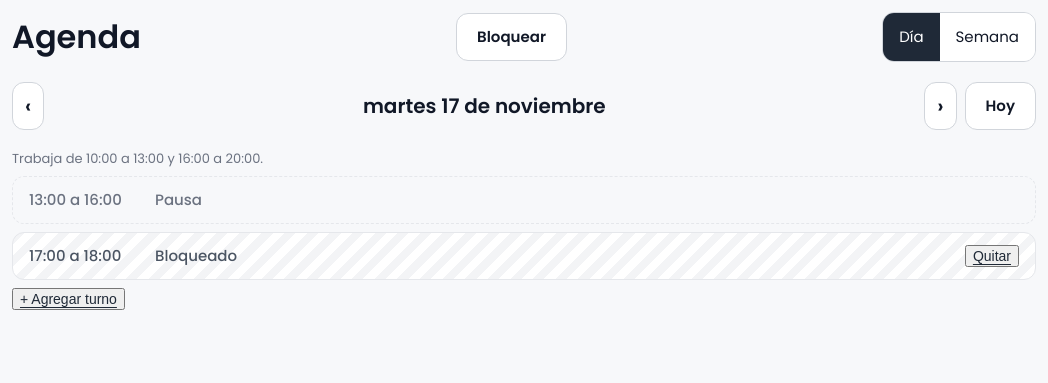
Test: Agenda › HU-27 CA4: "Quitar" un bloqueo pide un "sí", lo borra y vuelve a pedir la agenda
Click the button "Quitar".
click(992, 256)  # box [965, 245, 1019, 267]
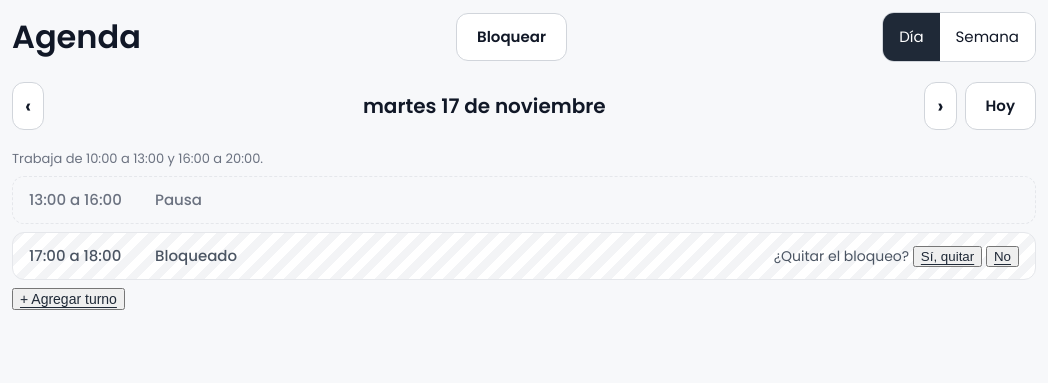
Click the button "Sí, quitar".
click(948, 256)  # box [913, 246, 982, 267]
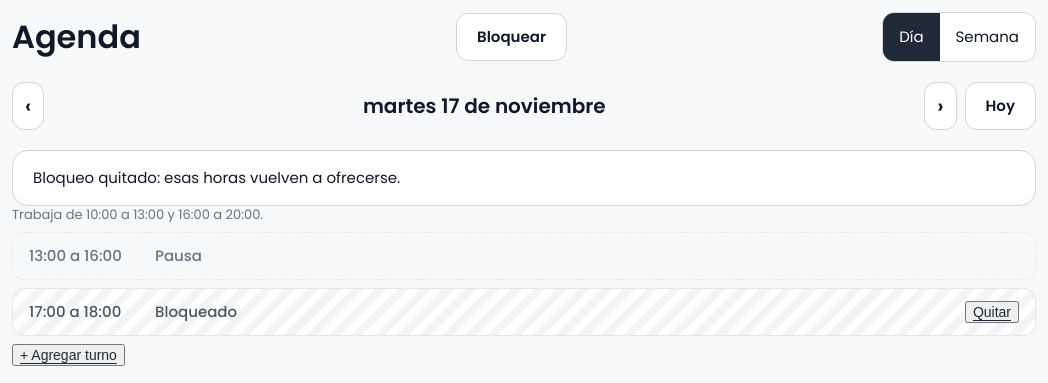
Expected: the text "Bloqueo quitado: esas horas vuelven a ofrecerse." is shown, [12, 150, 1036, 206]
